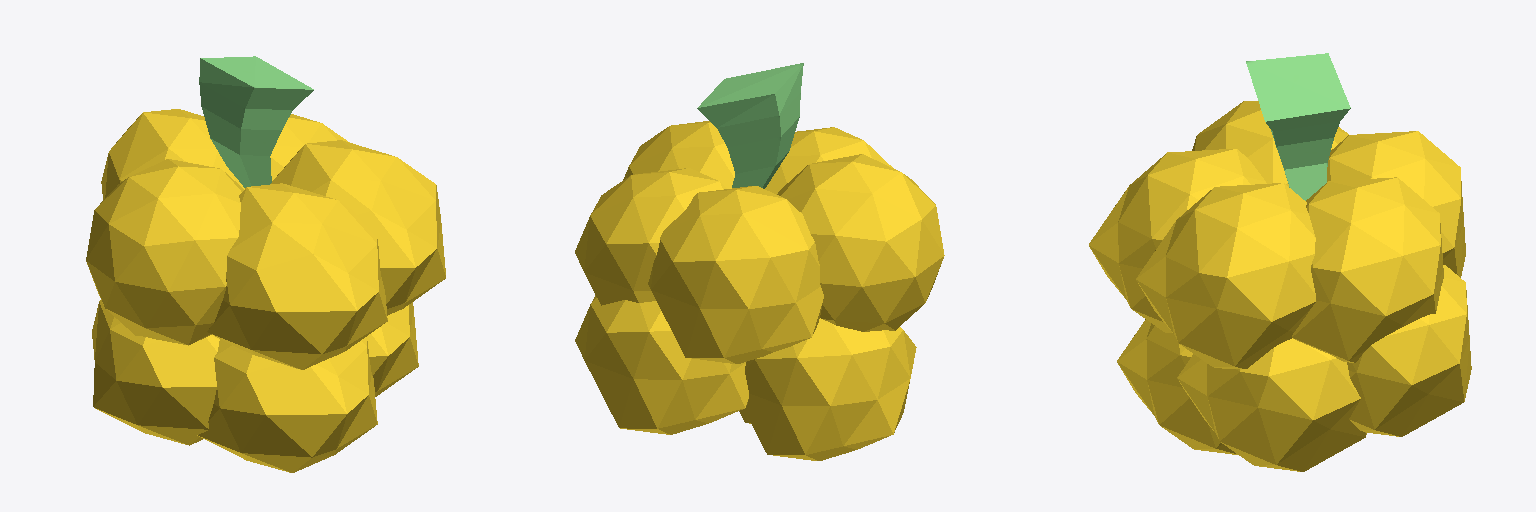
3 renders of one model, left to right at view 1: azimuth 30°, elevation 25°; view 2: azimuth 150°, elevation 25°; view 3: azimuth 270°, elevation 25°, orthographic.
Visible parts, largest first — view 1: Icosphere.018, Icosphere.019, Icosphere.022, Icosphere.021, Icosphere.017, Plane.011, Icosphere.009_Icosphere.000, Icosphere.023, Icosphere.006_Icosphere.000; view 2: Icosphere.009_Icosphere.000, Icosphere.019, Icosphere.017, Icosphere.020, Icosphere.006_Icosphere.000, Plane.011, Icosphere.021, Icosphere.018; view 3: Icosphere.021, Icosphere.006_Icosphere.000, Icosphere.023, Icosphere.020, Icosphere.018, Plane.011, Icosphere.009_Icosphere.000, Icosphere.022, Icosphere.019.
Part boxes in pixels (x1,y1,x2,y2): Icosphere.018: (207, 183, 387, 369); Icosphere.019: (86, 159, 243, 345); Icosphere.022: (197, 338, 377, 472); Icosphere.021: (271, 140, 445, 315); Icosphere.017: (92, 300, 219, 445); Plane.011: (199, 56, 313, 187); Icosphere.009_Icosphere.000: (101, 109, 244, 199); Icosphere.023: (365, 302, 418, 396); Icosphere.006_Icosphere.000: (270, 114, 349, 180); Icosphere.009_Icosphere.000: (648, 186, 823, 363); Icosphere.019: (777, 154, 944, 331); Icosphere.017: (744, 318, 916, 460); Icosphere.020: (575, 295, 748, 434); Icosphere.006_Icosphere.000: (575, 168, 726, 305); Plane.011: (697, 63, 803, 188); Icosphere.021: (623, 121, 734, 188); Icosphere.018: (765, 127, 892, 194); Icosphere.021: (1136, 183, 1315, 368); Icosphere.006_Icosphere.000: (1292, 177, 1443, 362); Icosphere.023: (1177, 338, 1366, 471); Icosphere.020: (1347, 265, 1471, 436); Icosphere.018: (1089, 149, 1266, 332); Plane.011: (1246, 53, 1350, 200); Icosphere.009_Icosphere.000: (1327, 131, 1465, 277); Icosphere.022: (1117, 319, 1237, 454); Icosphere.019: (1192, 101, 1348, 186).
Size of the model in its own units: 1.94 by 2.19 by 2.03.
2 materials, 2 textured.